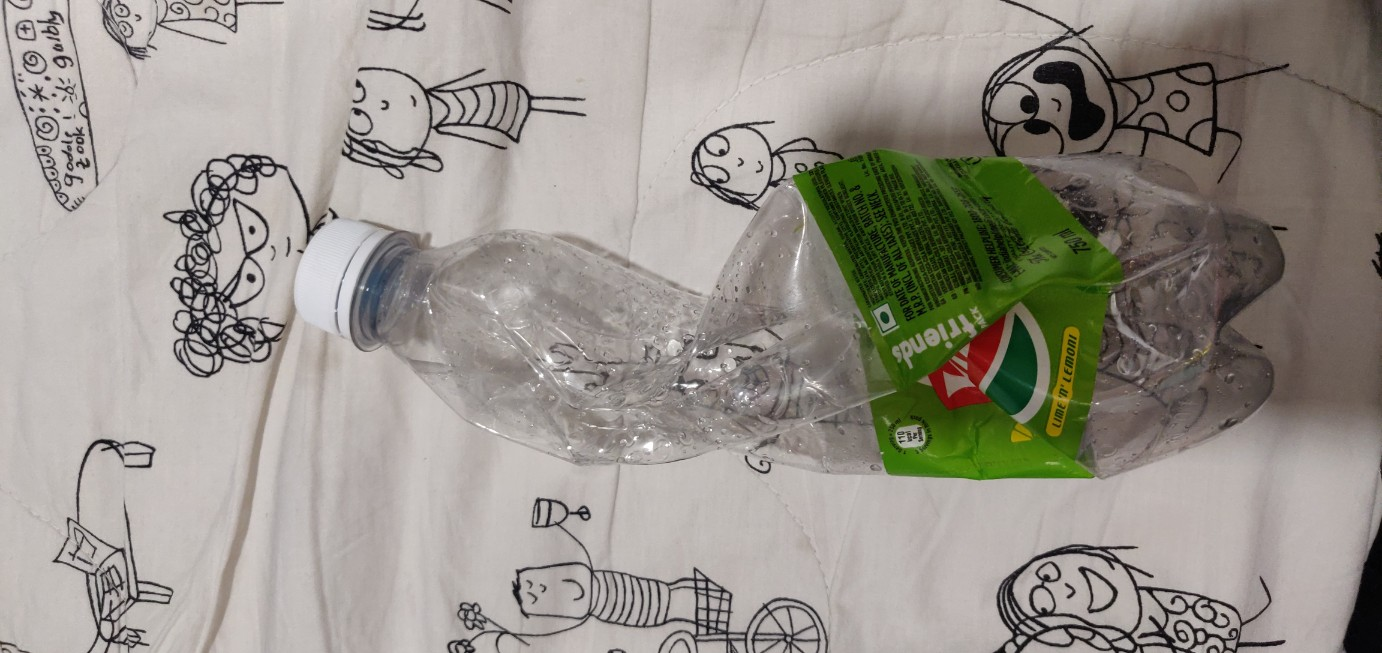Electronics: (255, 135, 1329, 508)
